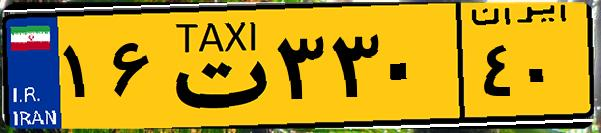0: (385, 28, 445, 110), (525, 38, 570, 115)
1: (57, 26, 110, 100)
3: (270, 28, 330, 110), (330, 28, 385, 110)
4: (475, 38, 525, 113)
6: (110, 28, 158, 98)
ت: (158, 12, 270, 120)
